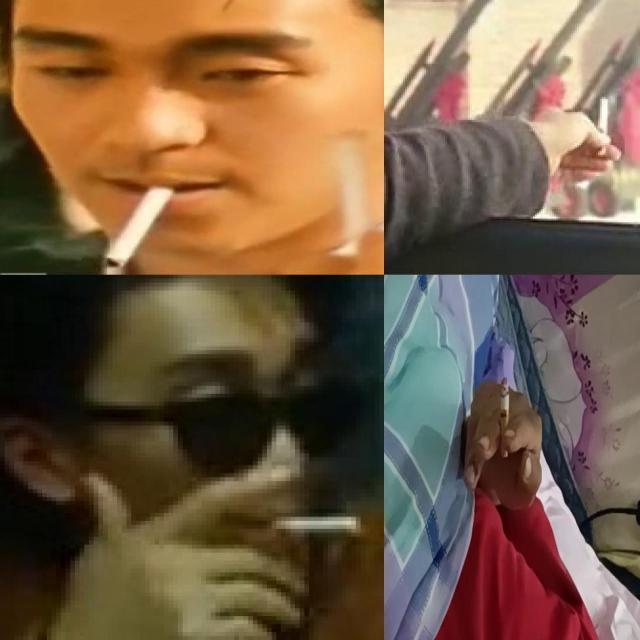smoking: (106, 177, 186, 268), (260, 514, 360, 536), (596, 94, 612, 134), (501, 376, 508, 459)
